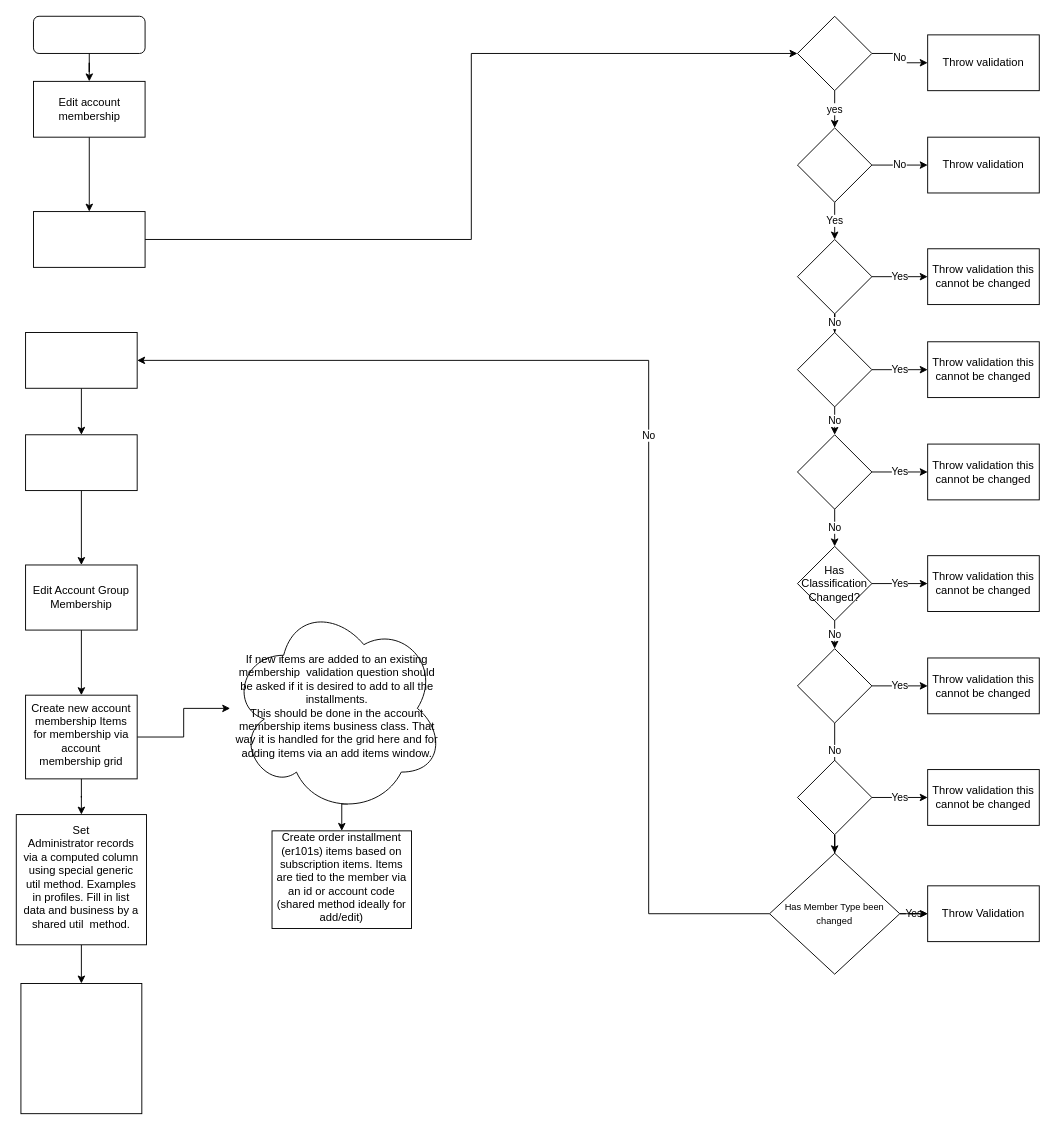
The diagram is 1056 pixels wide and 1130 high, and some of its shapes have lost their labels. The centre of each missing label's shape, as x and y in pixels:
Are all required fields filled in?: the point at 834,53
Edit Group Membership: the point at 89,34
Has Installment changed: the point at 834,276
Has Period Changed: the point at 834,369
Is membership start date within the period: the point at 834,164
linked members?: the point at 81,1048
Process: the point at 81,360
Update Related: the point at 81,462
Validate: the point at 89,239
